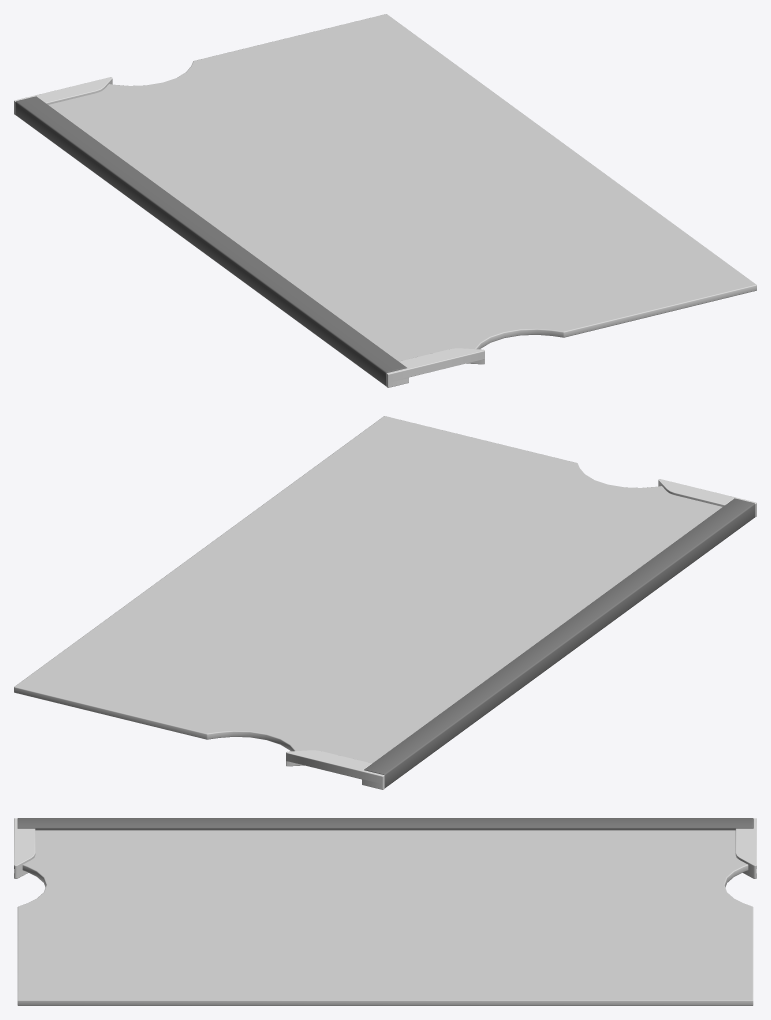
The model's file is SM_Fridge_Shelf.dae.
The picture shows the model from 3 angles, top to bottom: view 1: azimuth 30°, elevation 25°; view 2: azimuth 150°, elevation 25°; view 3: azimuth 270°, elevation 25°; orthographic projection.
Parts seen in each view (by area): view 1: SM_Fridge_Shelf; view 2: SM_Fridge_Shelf; view 3: SM_Fridge_Shelf.
Part boxes in pixels (box(x1,y1,x2,y2)): SM_Fridge_Shelf: box(14, 14, 756, 387); SM_Fridge_Shelf: box(14, 416, 756, 789); SM_Fridge_Shelf: box(14, 818, 756, 1005).
Bounding box in the file's own units: 0.2682 × 0.4684 × 0.01.
Materials: 3 (2 with a texture image).
